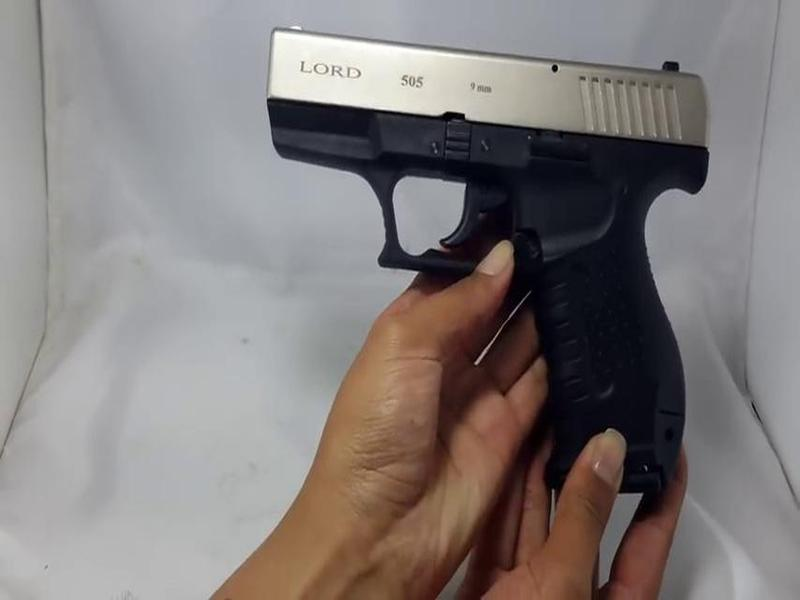Pistola: (231, 19, 722, 497)
